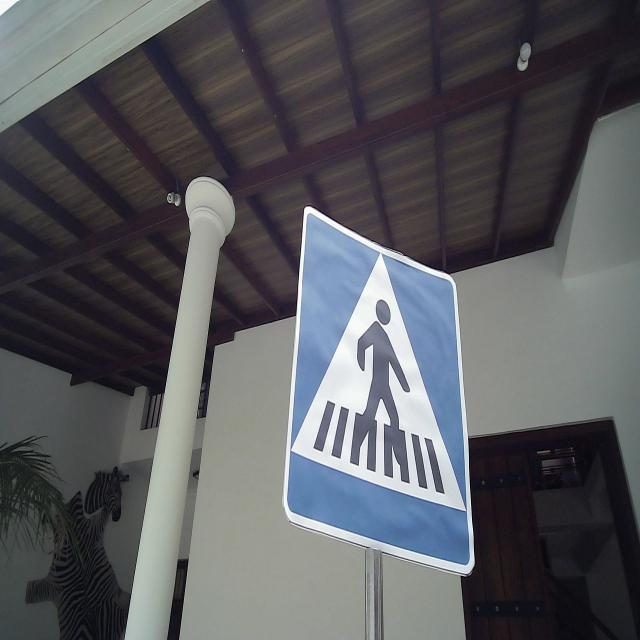crosswalk_sign: (281, 204, 477, 578)
